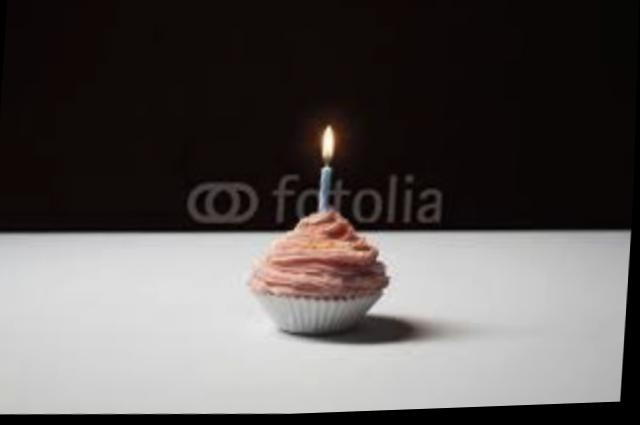fire: (311, 119, 341, 172)
